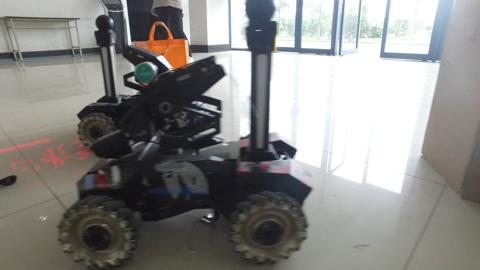chariot: (60, 1, 309, 268), (81, 15, 156, 144)
